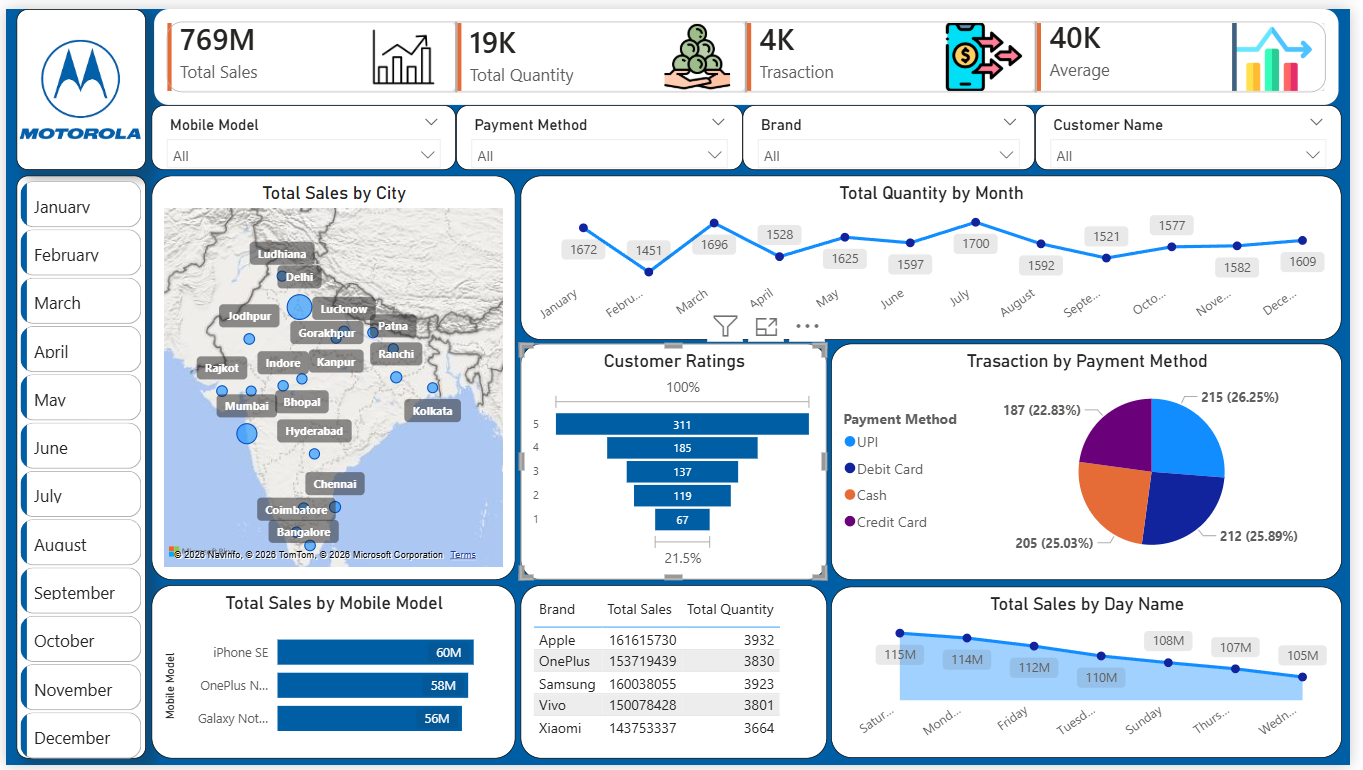

What the dashboard file says about the page in this screenshot:
{"tool":"powerbi","page":{"name":"Page 1","canvas":[1280,720],"ordinal":0},"visuals":[{"type":"shape","box":[10,158.3,123.3,555],"z":0},{"type":"shape","box":[10,0,123.3,153.3],"z":1000},{"type":"image","box":[11.7,0,118.3,153.3],"z":2000},{"type":"advancedSlicerVisual","fields":{"Values":["Sales_Data.Date.Variation.Date Hierarchy.Month"]},"box":[8.3,158.3,125,561.7],"z":3000},{"type":"cardVisual","fields":{"Data":["Sales_Data.Total Sales","Sales_Data.Total Quantity","Sales_Data.Trasaction","Sales_Data.Average"]},"box":[135,0,1141.7,91.7],"z":4000},{"type":"map","fields":{"Category":["Sales_Data.City"],"Size":["Sales_Data.Total Sales"]},"box":[138.3,158.3,346.7,385],"z":5000},{"type":"lineChart","fields":{"Category":["Sales_Data.Date.Variation.Date Hierarchy.Month","Sales_Data.Date.Variation.Date Hierarchy.Day"],"Y":["Sales_Data.Total Quantity"]},"box":[490,158.3,781.7,156.7],"z":6000},{"type":"clusteredBarChart","fields":{"Category":["Sales_Data.Mobile Model"],"Y":["Sales_Data.Total Sales"]},"box":[138.3,548.3,346.7,165],"z":7000},{"type":"pieChart","fields":{"Category":["Sales_Data.Payment Method"],"Y":["Sales_Data.Trasaction"]},"box":[785,318.3,486.7,225],"z":8000},{"type":"funnel","title":"Customer Ratings","fields":{"Category":["Sales_Data.Customer Ratings"],"Y":["CountNonNull(Sales_Data.Customer Ratings)"]},"box":[490,318.3,291.7,225],"z":9000},{"type":"areaChart","fields":{"Category":["Sales_Data.Day Name"],"Y":["Sales_Data.Total Sales"]},"box":[785,550,486.7,163.3],"z":10000},{"type":"tableEx","fields":{"Values":["Sales_Data.Brand","Sales_Data.Total Sales","Sales_Data.Total Quantity"]},"box":[490,548.3,291.7,165],"z":11000},{"type":"slicer","fields":{"Values":["Sales_Data.Customer Name"]},"box":[980,91.7,291.7,61.7],"z":12000},{"type":"slicer","fields":{"Values":["Sales_Data.Payment Method"]},"box":[428.3,91.7,273.3,61.7],"z":12001},{"type":"slicer","fields":{"Values":["Sales_Data.Brand"]},"box":[701.7,91.7,278.3,61.7],"z":12002},{"type":"slicer","fields":{"Values":["Sales_Data.Mobile Model"]},"box":[138.3,91.7,290,61.7],"z":12003}]}

Visuals, with their boxes in screenshot pixels (x1, y1, x2, y2), scaled from the page's 1280x720 canvas onto the 1363x770 screenshot:
shape: detection(11, 169, 142, 763)
shape: detection(11, 0, 142, 164)
image: detection(12, 0, 138, 164)
advancedSlicerVisual - Sales_Data.Date.Variation.Date Hierarchy.Month: detection(9, 169, 142, 769)
cardVisual - Sales_Data.Total Sales x Sales_Data.Total Quantity: detection(144, 0, 1359, 98)
map - Sales_Data.City x Sales_Data.Total Sales: detection(147, 169, 516, 581)
lineChart - Sales_Data.Date.Variation.Date Hierarchy.Month x Sales_Data.Date.Variation.Date Hierarchy.Day: detection(522, 169, 1354, 337)
clusteredBarChart - Sales_Data.Mobile Model x Sales_Data.Total Sales: detection(147, 586, 516, 763)
pieChart - Sales_Data.Payment Method x Sales_Data.Trasaction: detection(836, 340, 1354, 581)
"Customer Ratings" funnel: detection(522, 340, 832, 581)
areaChart - Sales_Data.Day Name x Sales_Data.Total Sales: detection(836, 588, 1354, 763)
tableEx - Sales_Data.Brand x Sales_Data.Total Sales: detection(522, 586, 832, 763)
slicer - Sales_Data.Customer Name: detection(1044, 98, 1354, 164)
slicer - Sales_Data.Payment Method: detection(456, 98, 747, 164)
slicer - Sales_Data.Brand: detection(747, 98, 1044, 164)
slicer - Sales_Data.Mobile Model: detection(147, 98, 456, 164)
